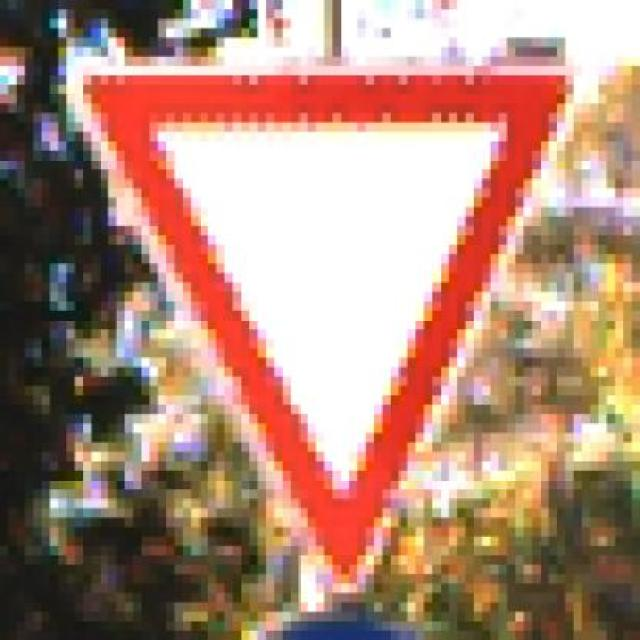Give Way: (66, 56, 591, 593)
